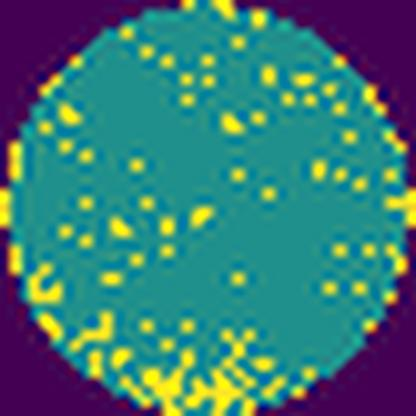Edge-Loc: (128, 324, 278, 415), (26, 258, 72, 308)
